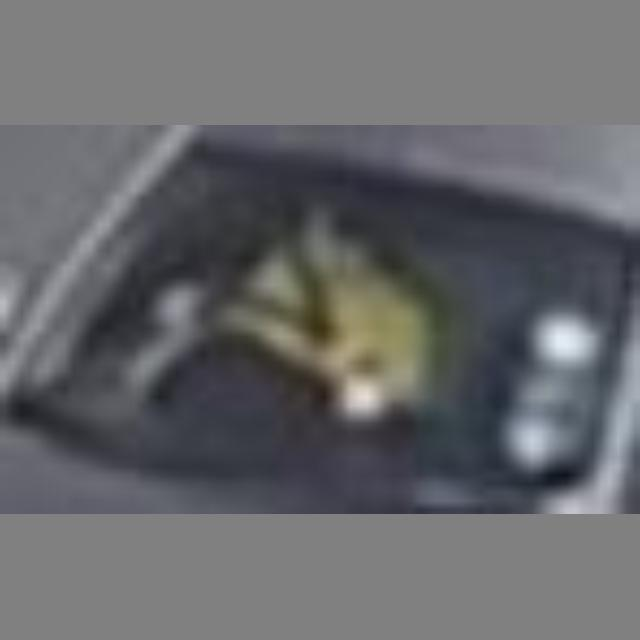pakai: (251, 194, 415, 393)
